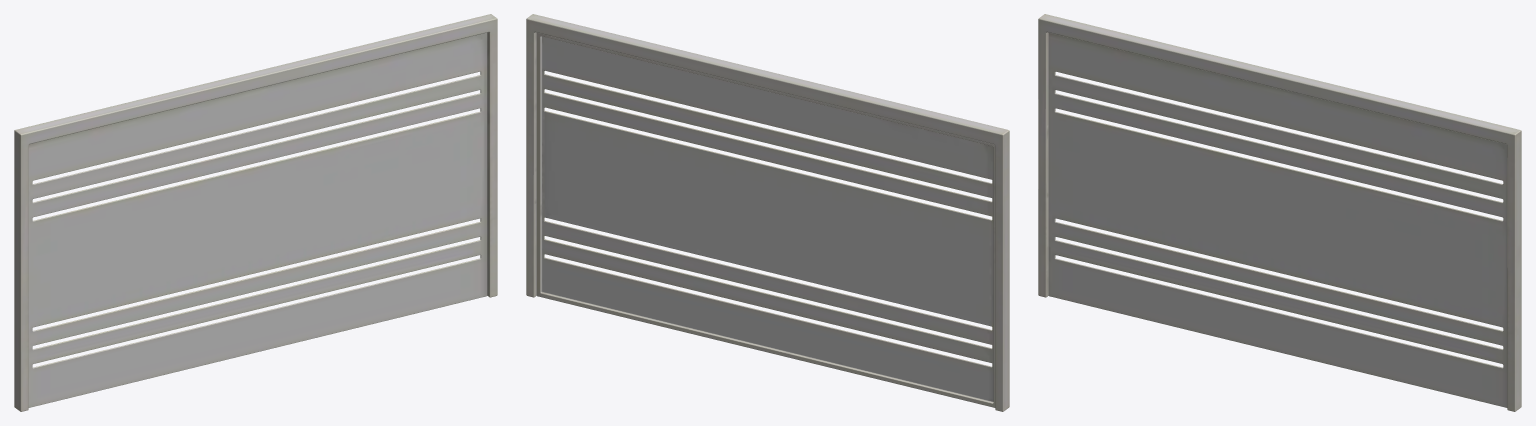
Rendered from g_sect.glb.
3 views of the same model, side by side, from view 1: azimuth 30°, elevation 25°; view 2: azimuth 150°, elevation 25°; view 3: azimuth 330°, elevation 25° (orthographic).
Visible parts, largest first — view 1: folha_por_p_0, folha_mod_p_0; view 2: folha_por_p_0, folha_mod_p_0; view 3: folha_por_p_0, folha_mod_p_0.
Part boxes in pixels (<box>): folha_por_p_0: <box>28,32,487,407</box>; folha_mod_p_0: <box>14,14,497,411</box>; folha_por_p_0: <box>536,33,995,407</box>; folha_mod_p_0: <box>526,14,1009,411</box>; folha_por_p_0: <box>1048,33,1507,407</box>; folha_mod_p_0: <box>1038,14,1521,411</box>.
Size of the model in its own units: 4.14 by 2.3 by 0.1.
2 materials, 2 textured.
